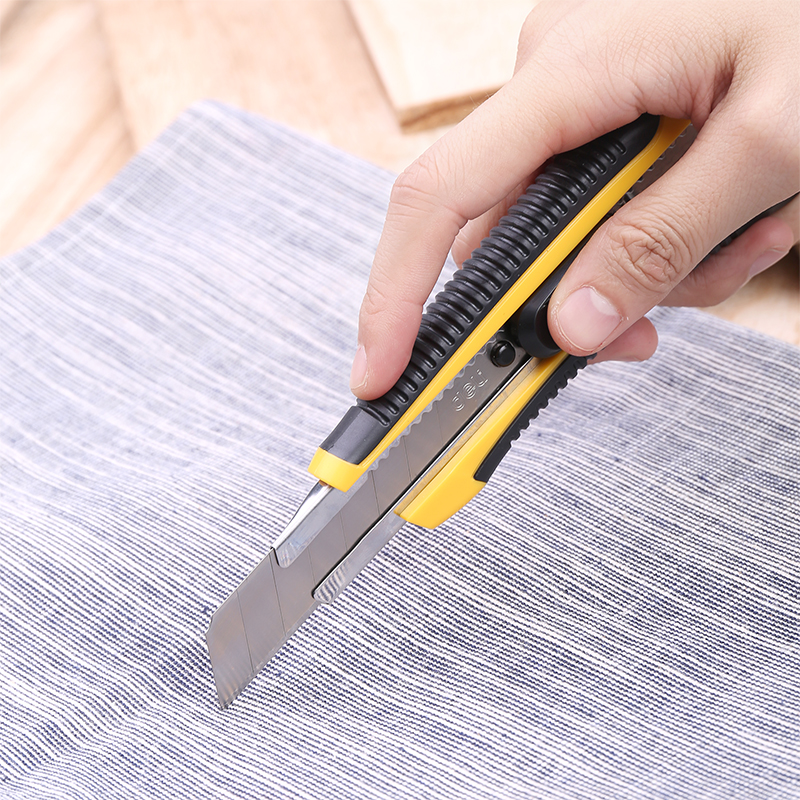cutter: (204, 106, 700, 714)
